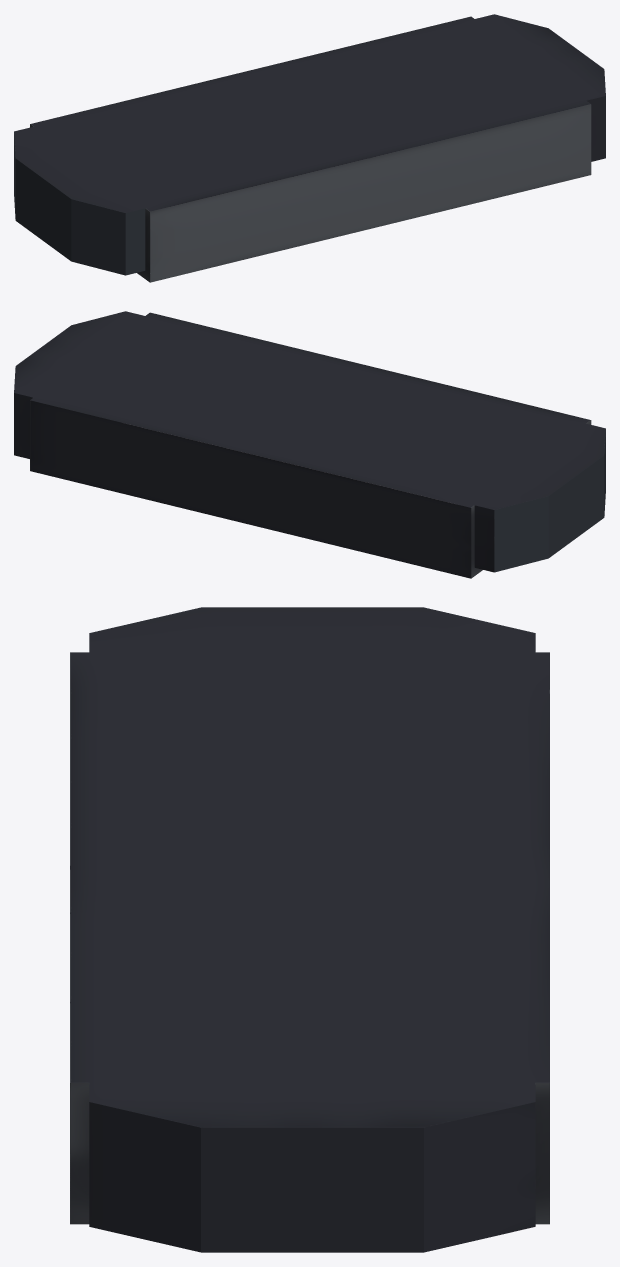
File: InteractableLight.fbx
3 views of the same model, one above another, from view 1: azimuth 30°, elevation 25°; view 2: azimuth 150°, elevation 25°; view 3: azimuth 270°, elevation 25° (orthographic). The views are drawn at different scales.
Parts seen in each view (by area): view 1: Cube.009; view 2: Cube.009; view 3: Cube.009.
Part boxes in pixels (bbox=[...]): Cube.009: bbox=[14, 14, 605, 282]; Cube.009: bbox=[14, 311, 605, 578]; Cube.009: bbox=[70, 607, 549, 1252].
Bounding box in the file's own units: 70.82 × 10.2 × 27.61.
1 material, 1 textured.
